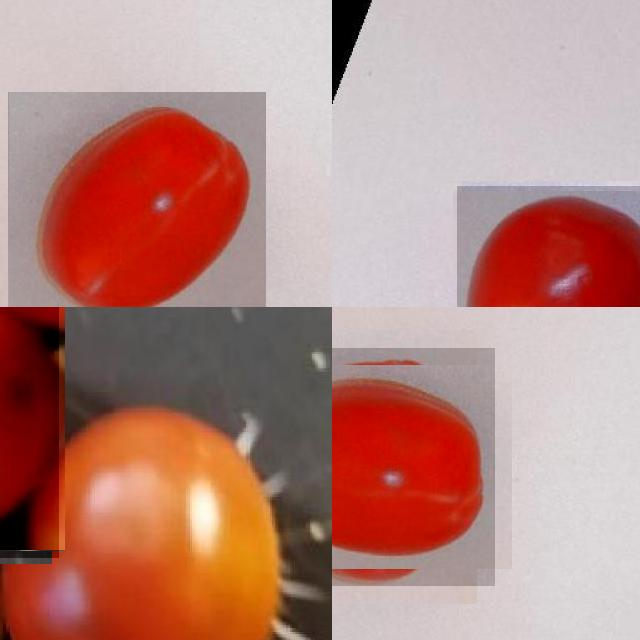Fresh Tomato: (2, 412, 281, 640), (8, 92, 266, 307), (332, 347, 495, 586), (457, 186, 640, 307)
